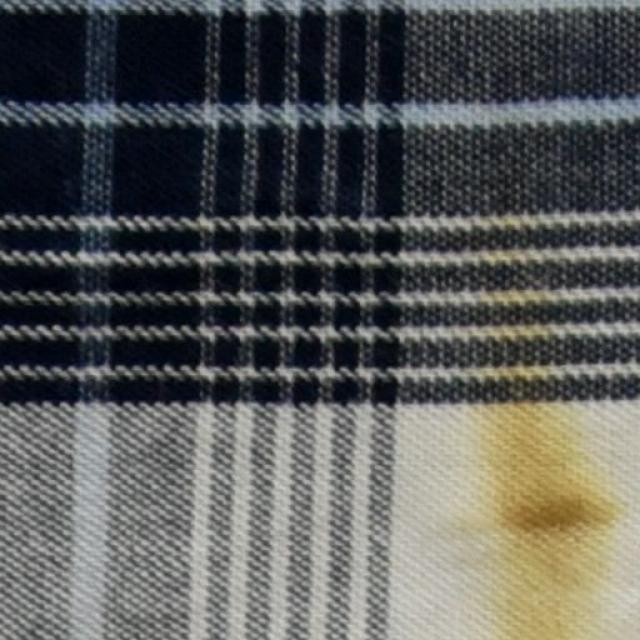Stain: (469, 299, 614, 637)
